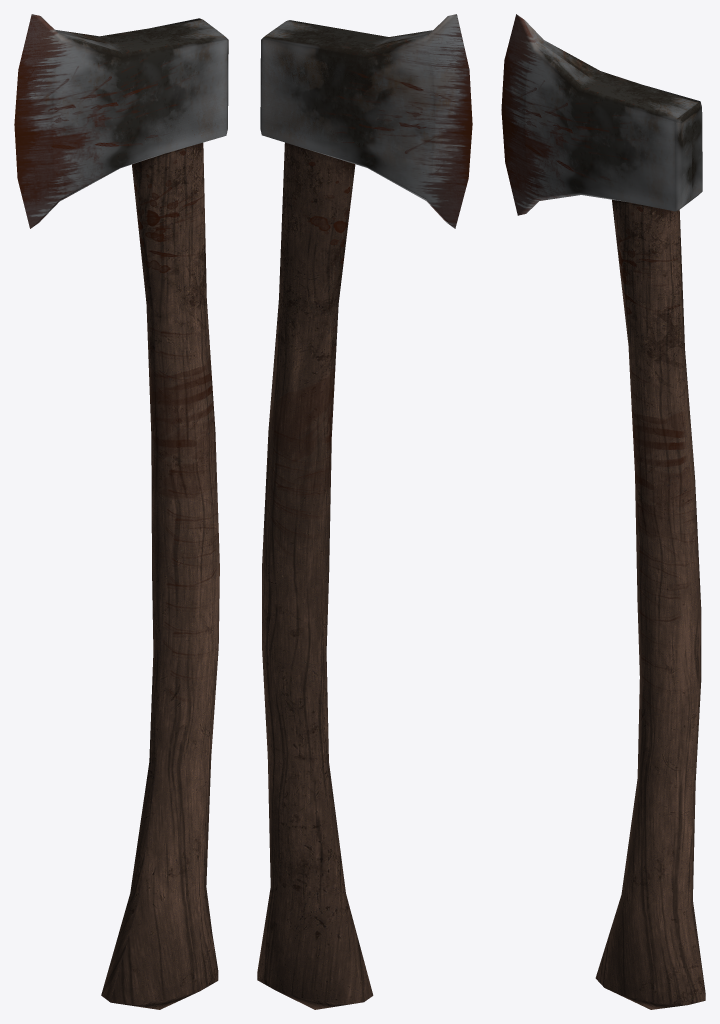
Rendered from bloody_axe.glb.
3 renders of one model, left to right at view 1: azimuth 30°, elevation 25°; view 2: azimuth 150°, elevation 25°; view 3: azimuth 330°, elevation 25°, orthographic. The views are drawn at different scales.
Visible parts, largest first — view 1: Axe; view 2: Axe; view 3: Axe.
Part boxes in pixels (bbox=[...]): Axe: bbox=[14, 14, 228, 1009]; Axe: bbox=[257, 14, 472, 1009]; Axe: bbox=[501, 14, 705, 1009].
Size of the model in its own units: 24.44 by 115 by 7.61.
1 material, 1 textured.
